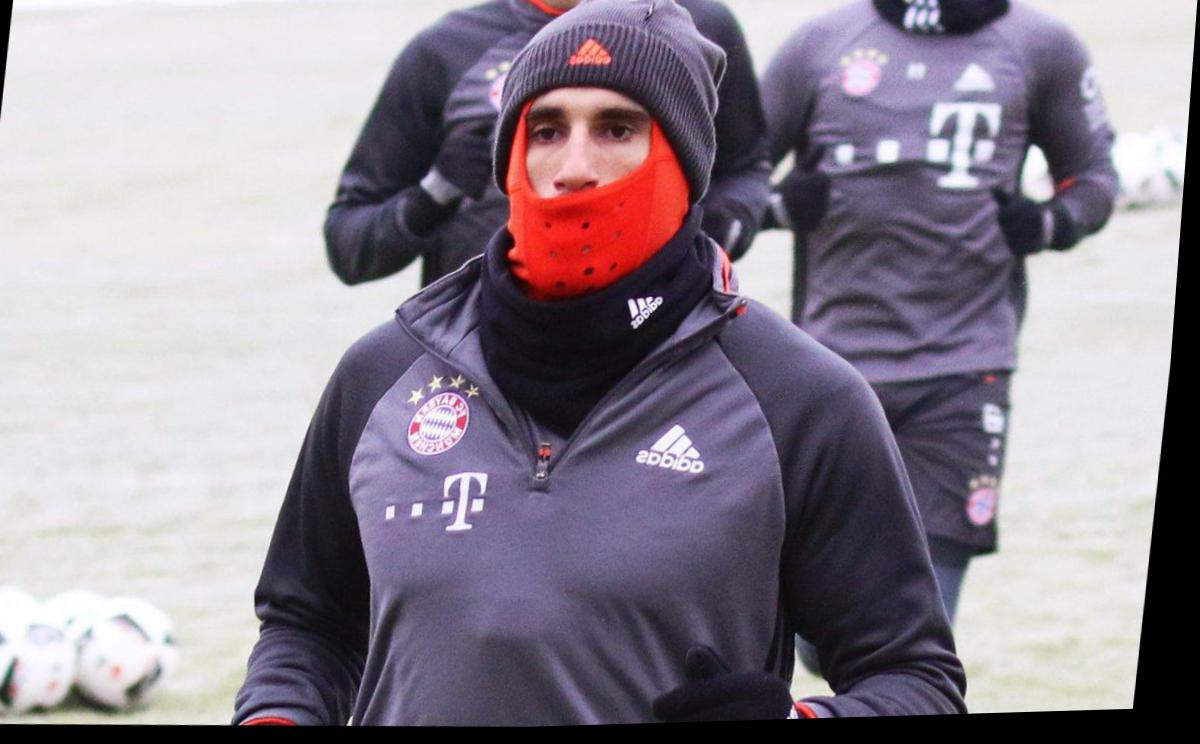WRONG: (500, 77, 691, 296)
